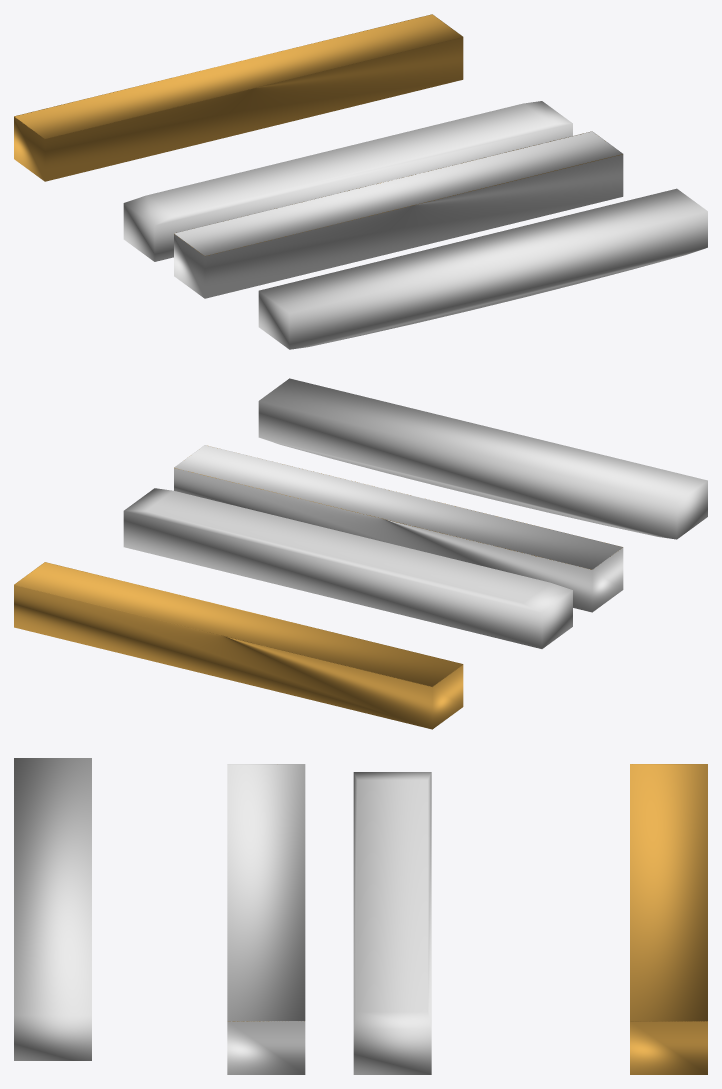
File: yut.glb
The picture shows the model from 3 angles, top to bottom: view 1: azimuth 30°, elevation 25°; view 2: azimuth 150°, elevation 25°; view 3: azimuth 270°, elevation 25°; orthographic projection. The views are drawn at different scales.
Parts seen in each view (by area): view 1: Cube.004, Cube, Cube.003, Cube.002; view 2: Cube.004, Cube.003, Cube.002, Cube; view 3: Cube, Cube.004, Cube.002, Cube.003.
Boxes of the visible parts, left/top/right/bottom form: Cube.004: left=14, top=14, right=463, bottom=181; Cube: left=174, top=131, right=623, bottom=298; Cube.003: left=258, top=188, right=707, bottom=349; Cube.002: left=123, top=101, right=572, bottom=261; Cube.004: left=14, top=562, right=463, bottom=729; Cube.003: left=258, top=378, right=707, bottom=539; Cube.002: left=123, top=488, right=572, bottom=648; Cube: left=174, top=445, right=623, bottom=612; Cube: left=227, top=764, right=305, bottom=1074; Cube.004: left=630, top=764, right=707, bottom=1074; Cube.002: left=353, top=772, right=431, bottom=1074; Cube.003: left=14, top=758, right=91, bottom=1060.
Size of the model in its own units: 8.45 by 0.9147 by 9.64.
